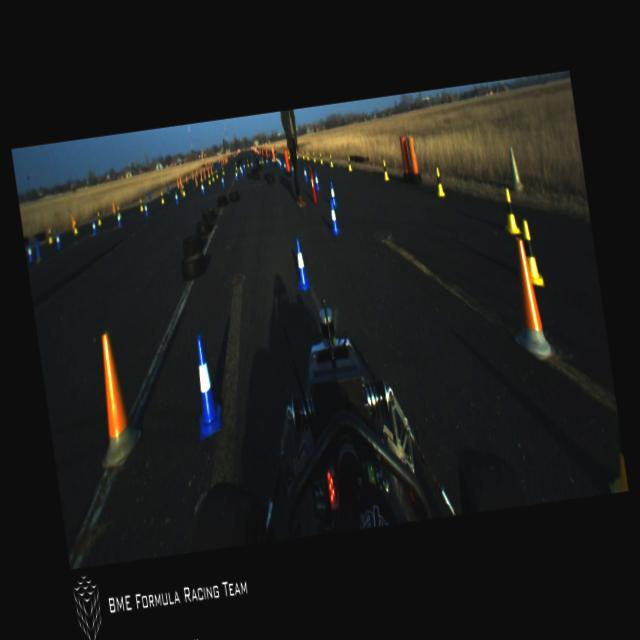blue_cone: (187, 334, 226, 441), (290, 237, 310, 290), (327, 198, 341, 236), (328, 180, 338, 208), (313, 170, 321, 192), (26, 242, 34, 263), (55, 230, 62, 250), (90, 221, 98, 237), (302, 165, 308, 184), (116, 213, 123, 229), (173, 191, 180, 207), (144, 201, 150, 217), (200, 182, 206, 196), (220, 175, 226, 188), (282, 159, 287, 173), (279, 158, 283, 172), (290, 162, 294, 175), (234, 169, 238, 182), (240, 166, 244, 176), (250, 160, 253, 170)
yellow_cone: (522, 218, 544, 288), (499, 187, 520, 235), (433, 166, 446, 198), (382, 160, 389, 182), (46, 227, 54, 244), (346, 156, 353, 172), (328, 153, 335, 169), (72, 219, 79, 235), (318, 150, 324, 166), (96, 211, 102, 227), (116, 206, 122, 220), (160, 191, 166, 204), (139, 199, 144, 212), (181, 184, 186, 197), (233, 160, 238, 171), (312, 151, 316, 164), (306, 150, 310, 162), (208, 174, 212, 186), (214, 169, 218, 180), (302, 150, 306, 160), (246, 158, 250, 168), (287, 150, 291, 160), (260, 155, 264, 165), (274, 152, 278, 162), (296, 151, 299, 160), (212, 173, 215, 182), (222, 168, 225, 176)
